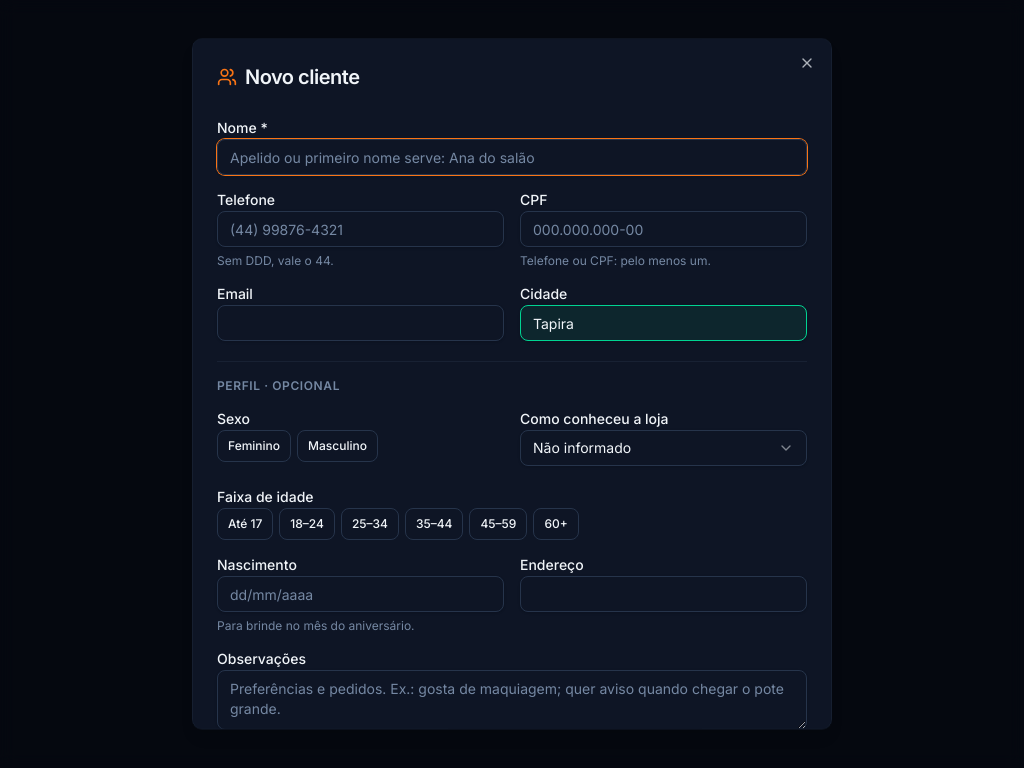
Test: CustomerEditorModal › recusa o CPF com dígito verificador errado
The width and height of the screenshot is (1024, 768).
Step 1. Type "Ana" into the field labelled "nome" → (512, 157), box [217,139,807,175]
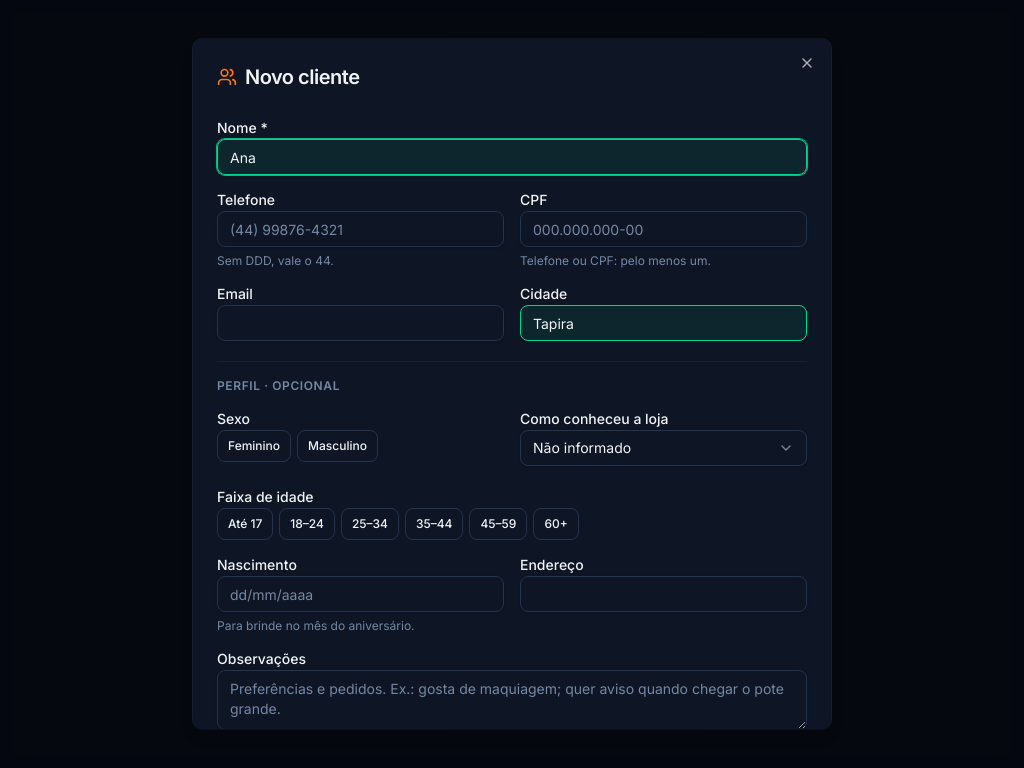
Step 2. Type "529.982.247-24" into the field named "CPF" → (664, 229), box [520,211,807,247]
(page scrolled)
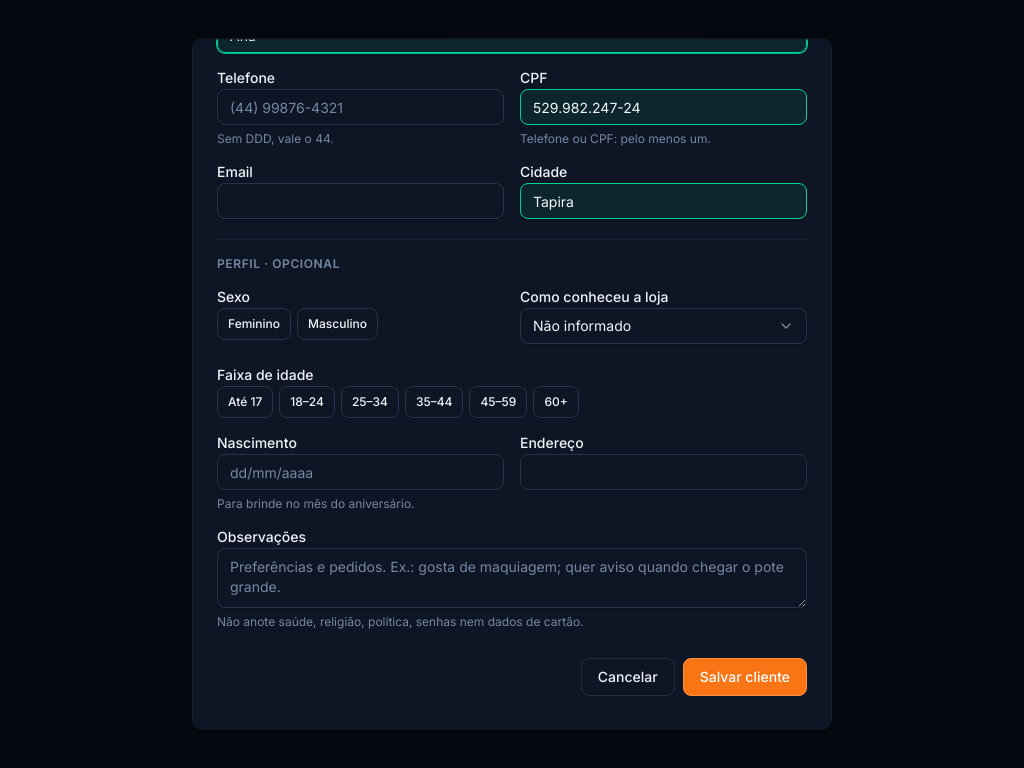
Step 3. Click the button "Salvar cliente" → (745, 677), box [683,658,807,696]
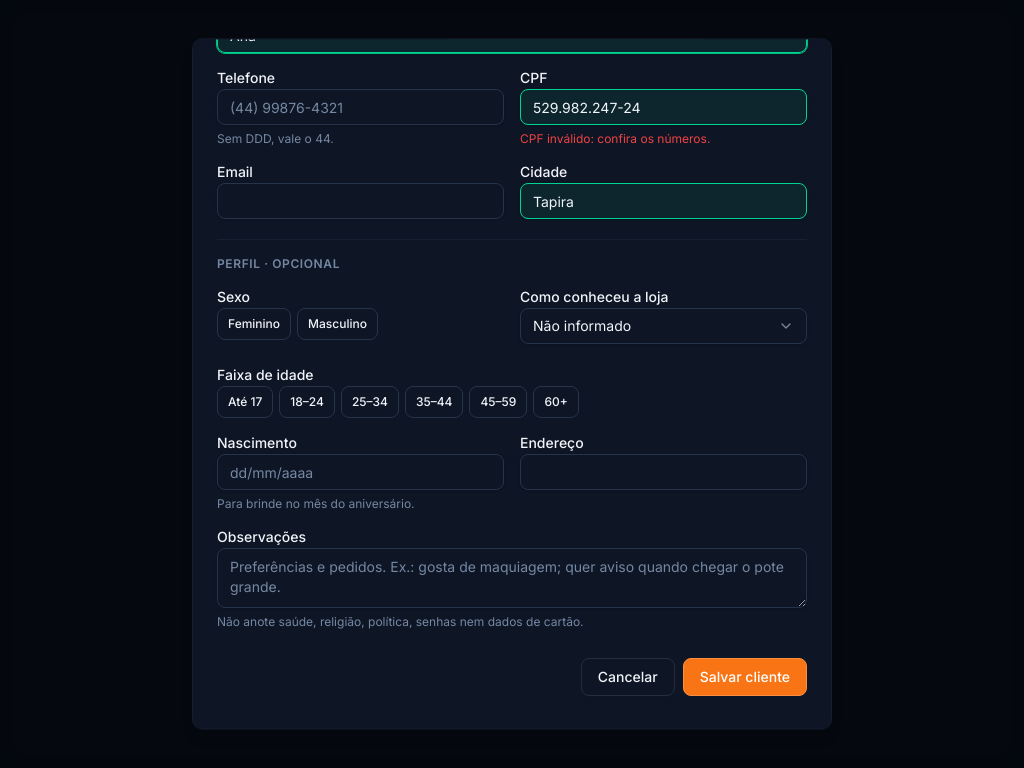
Result: the text "CPF inválido: confira os números." is shown at [520,131,710,146]
